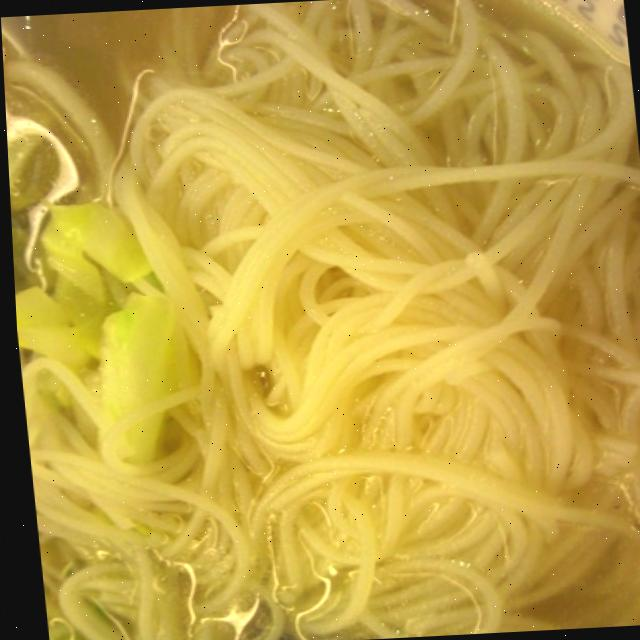熟制海鲜: (1, 19, 640, 619)
